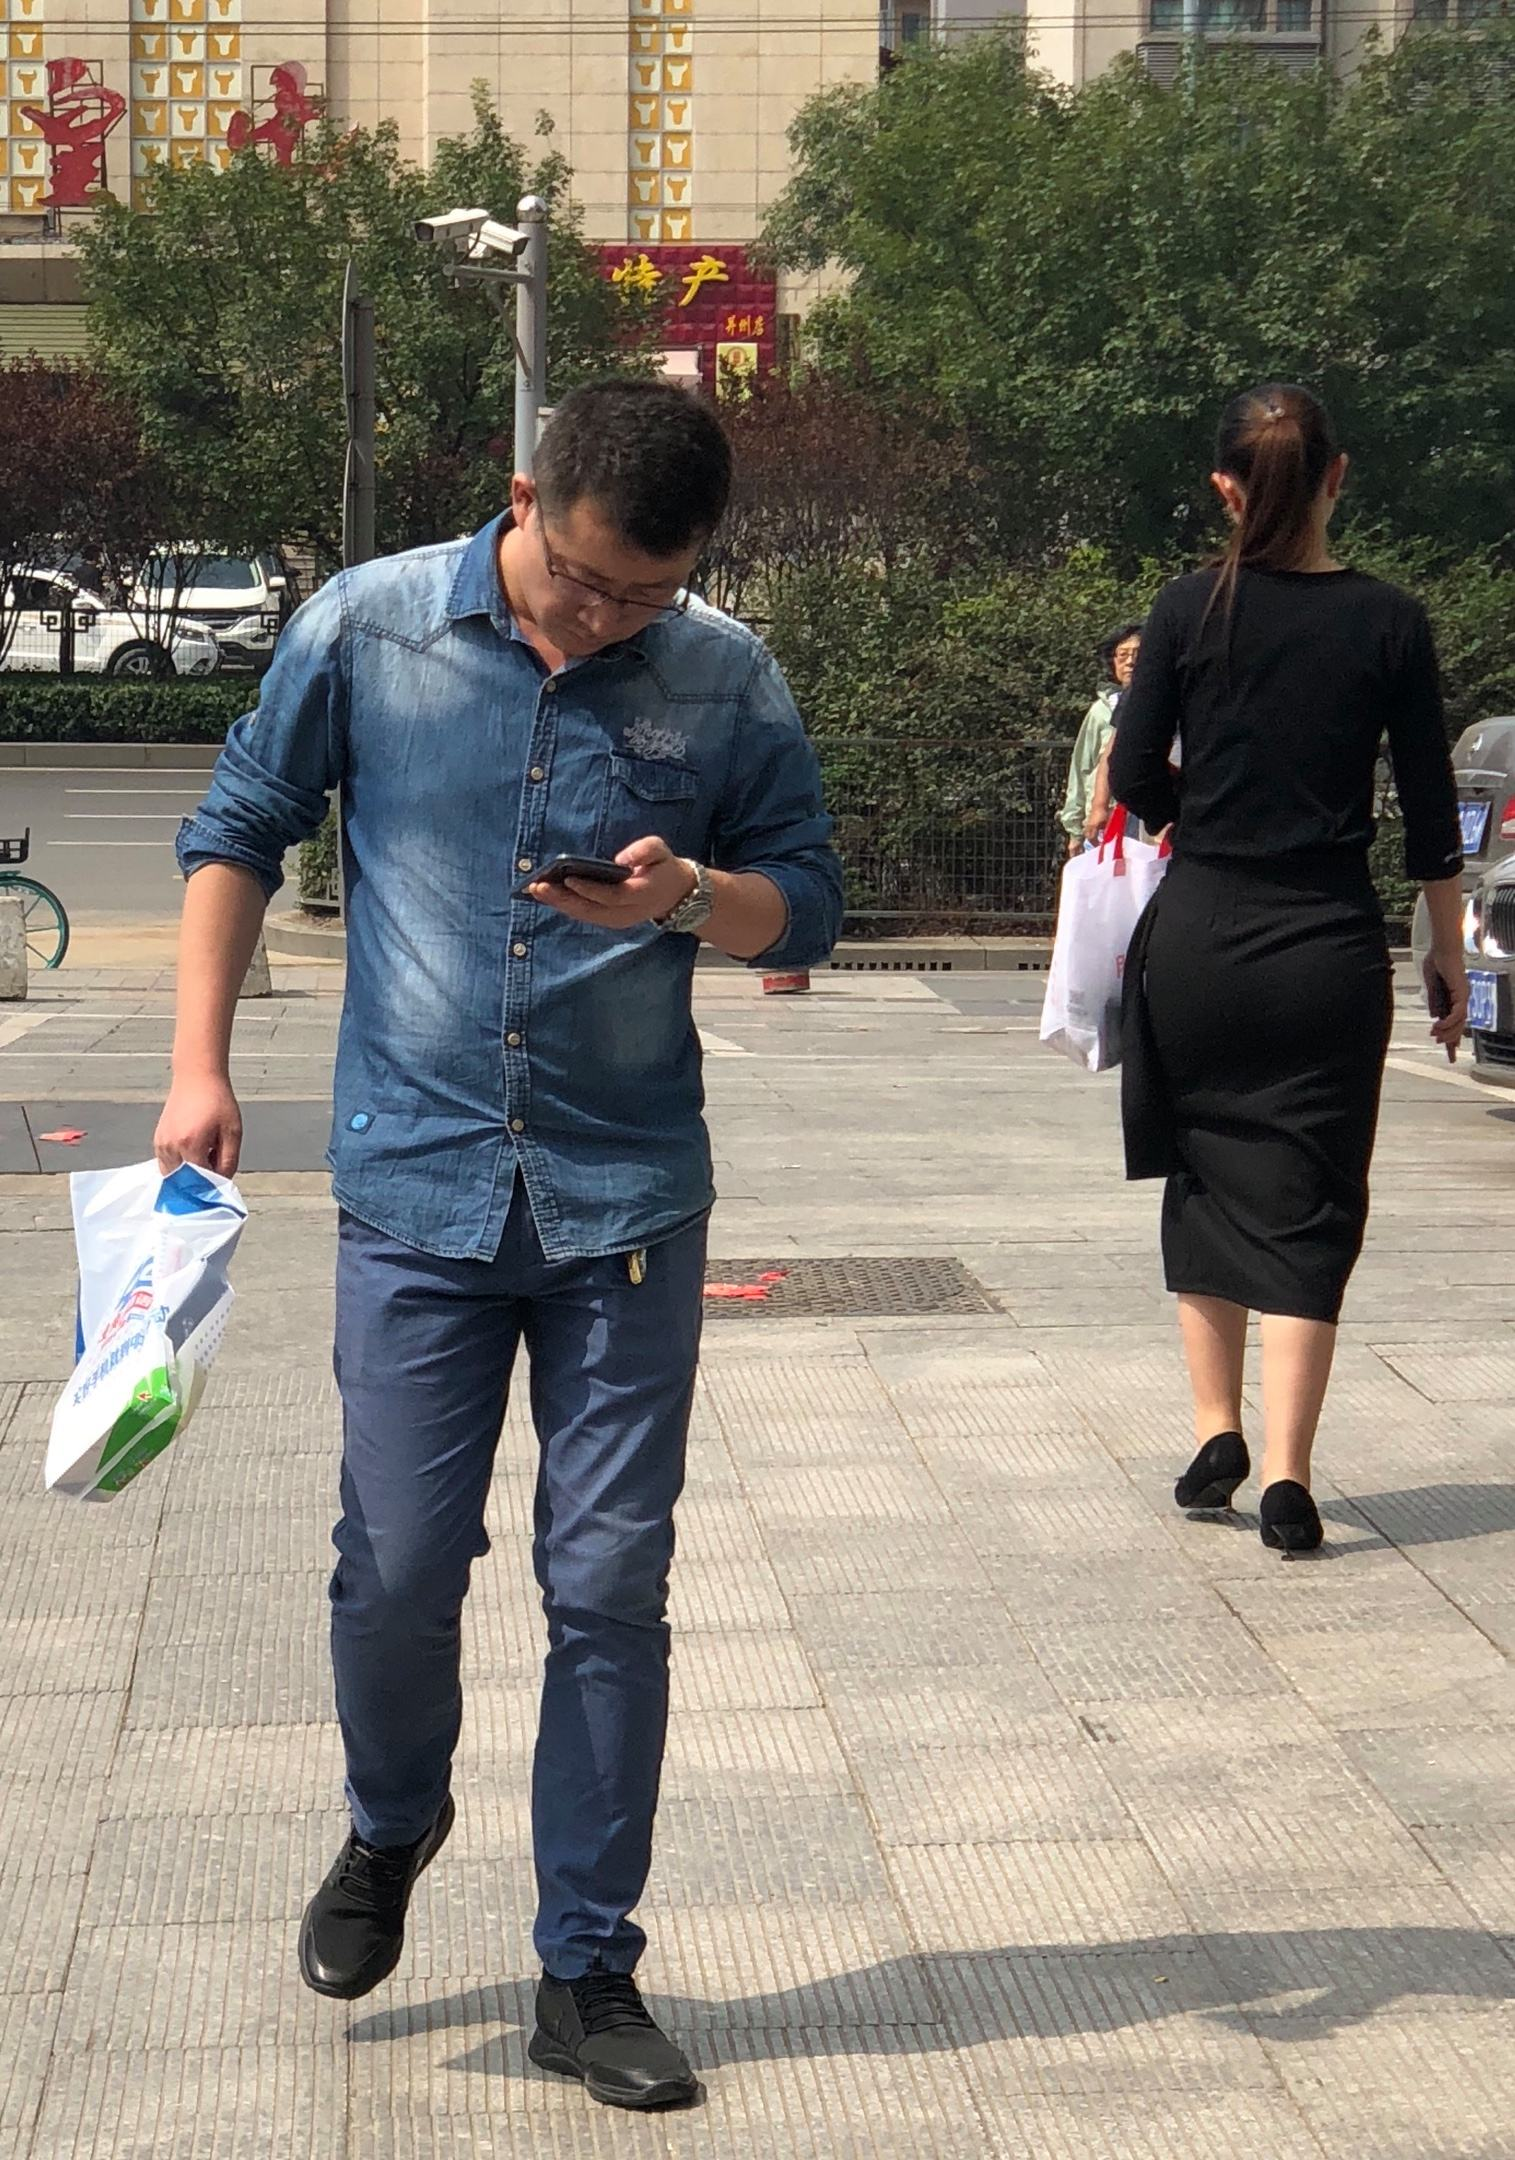reading: (501, 826, 689, 940)
